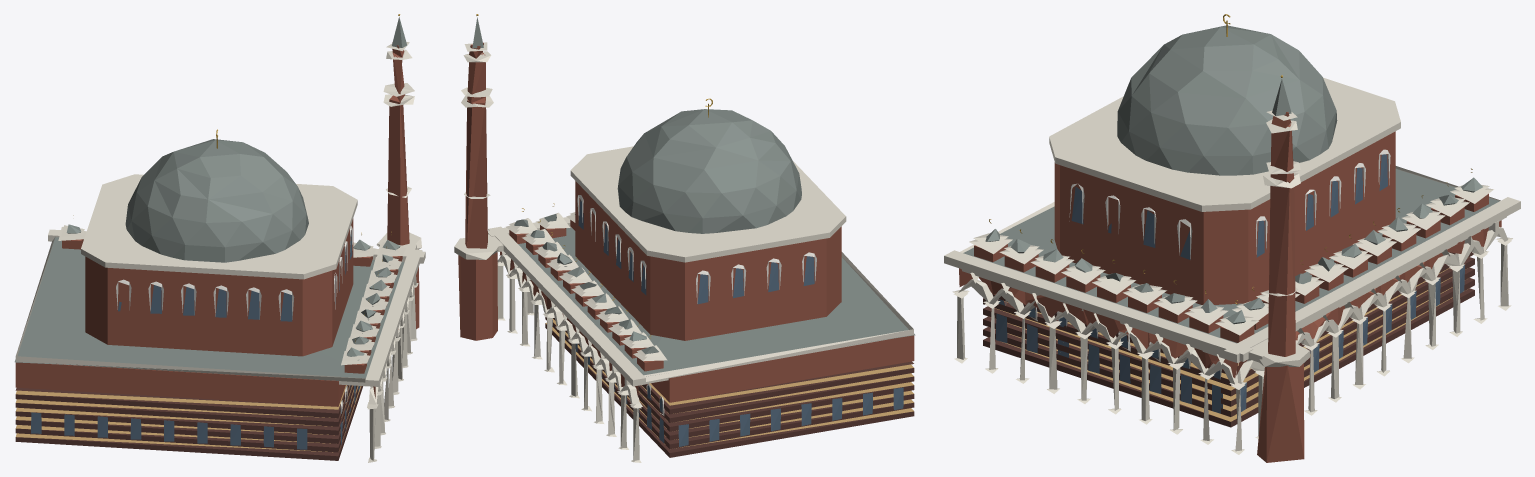
Rendered from westermoskee.lod1.glb.
The picture shows the model from 3 angles, left to right: view 1: azimuth 30°, elevation 25°; view 2: azimuth 150°, elevation 25°; view 3: azimuth 270°, elevation 25°; orthographic projection. The views are drawn at different scales.
Parts seen in each view (by area): view 1: westermoskee; view 2: westermoskee; view 3: westermoskee.
Boxes of the visible parts, x1,y1,x2,y2 form: westermoskee: [14, 14, 425, 462]; westermoskee: [454, 14, 915, 462]; westermoskee: [944, 14, 1520, 462].
Size of the model in its own units: 47.03 by 32.84 by 45.28.
